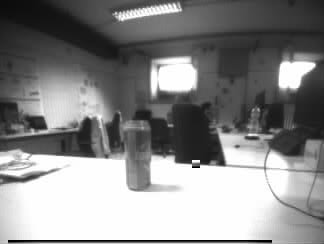Bottle: (250, 106, 260, 134)
Tin can: (125, 120, 152, 189)
